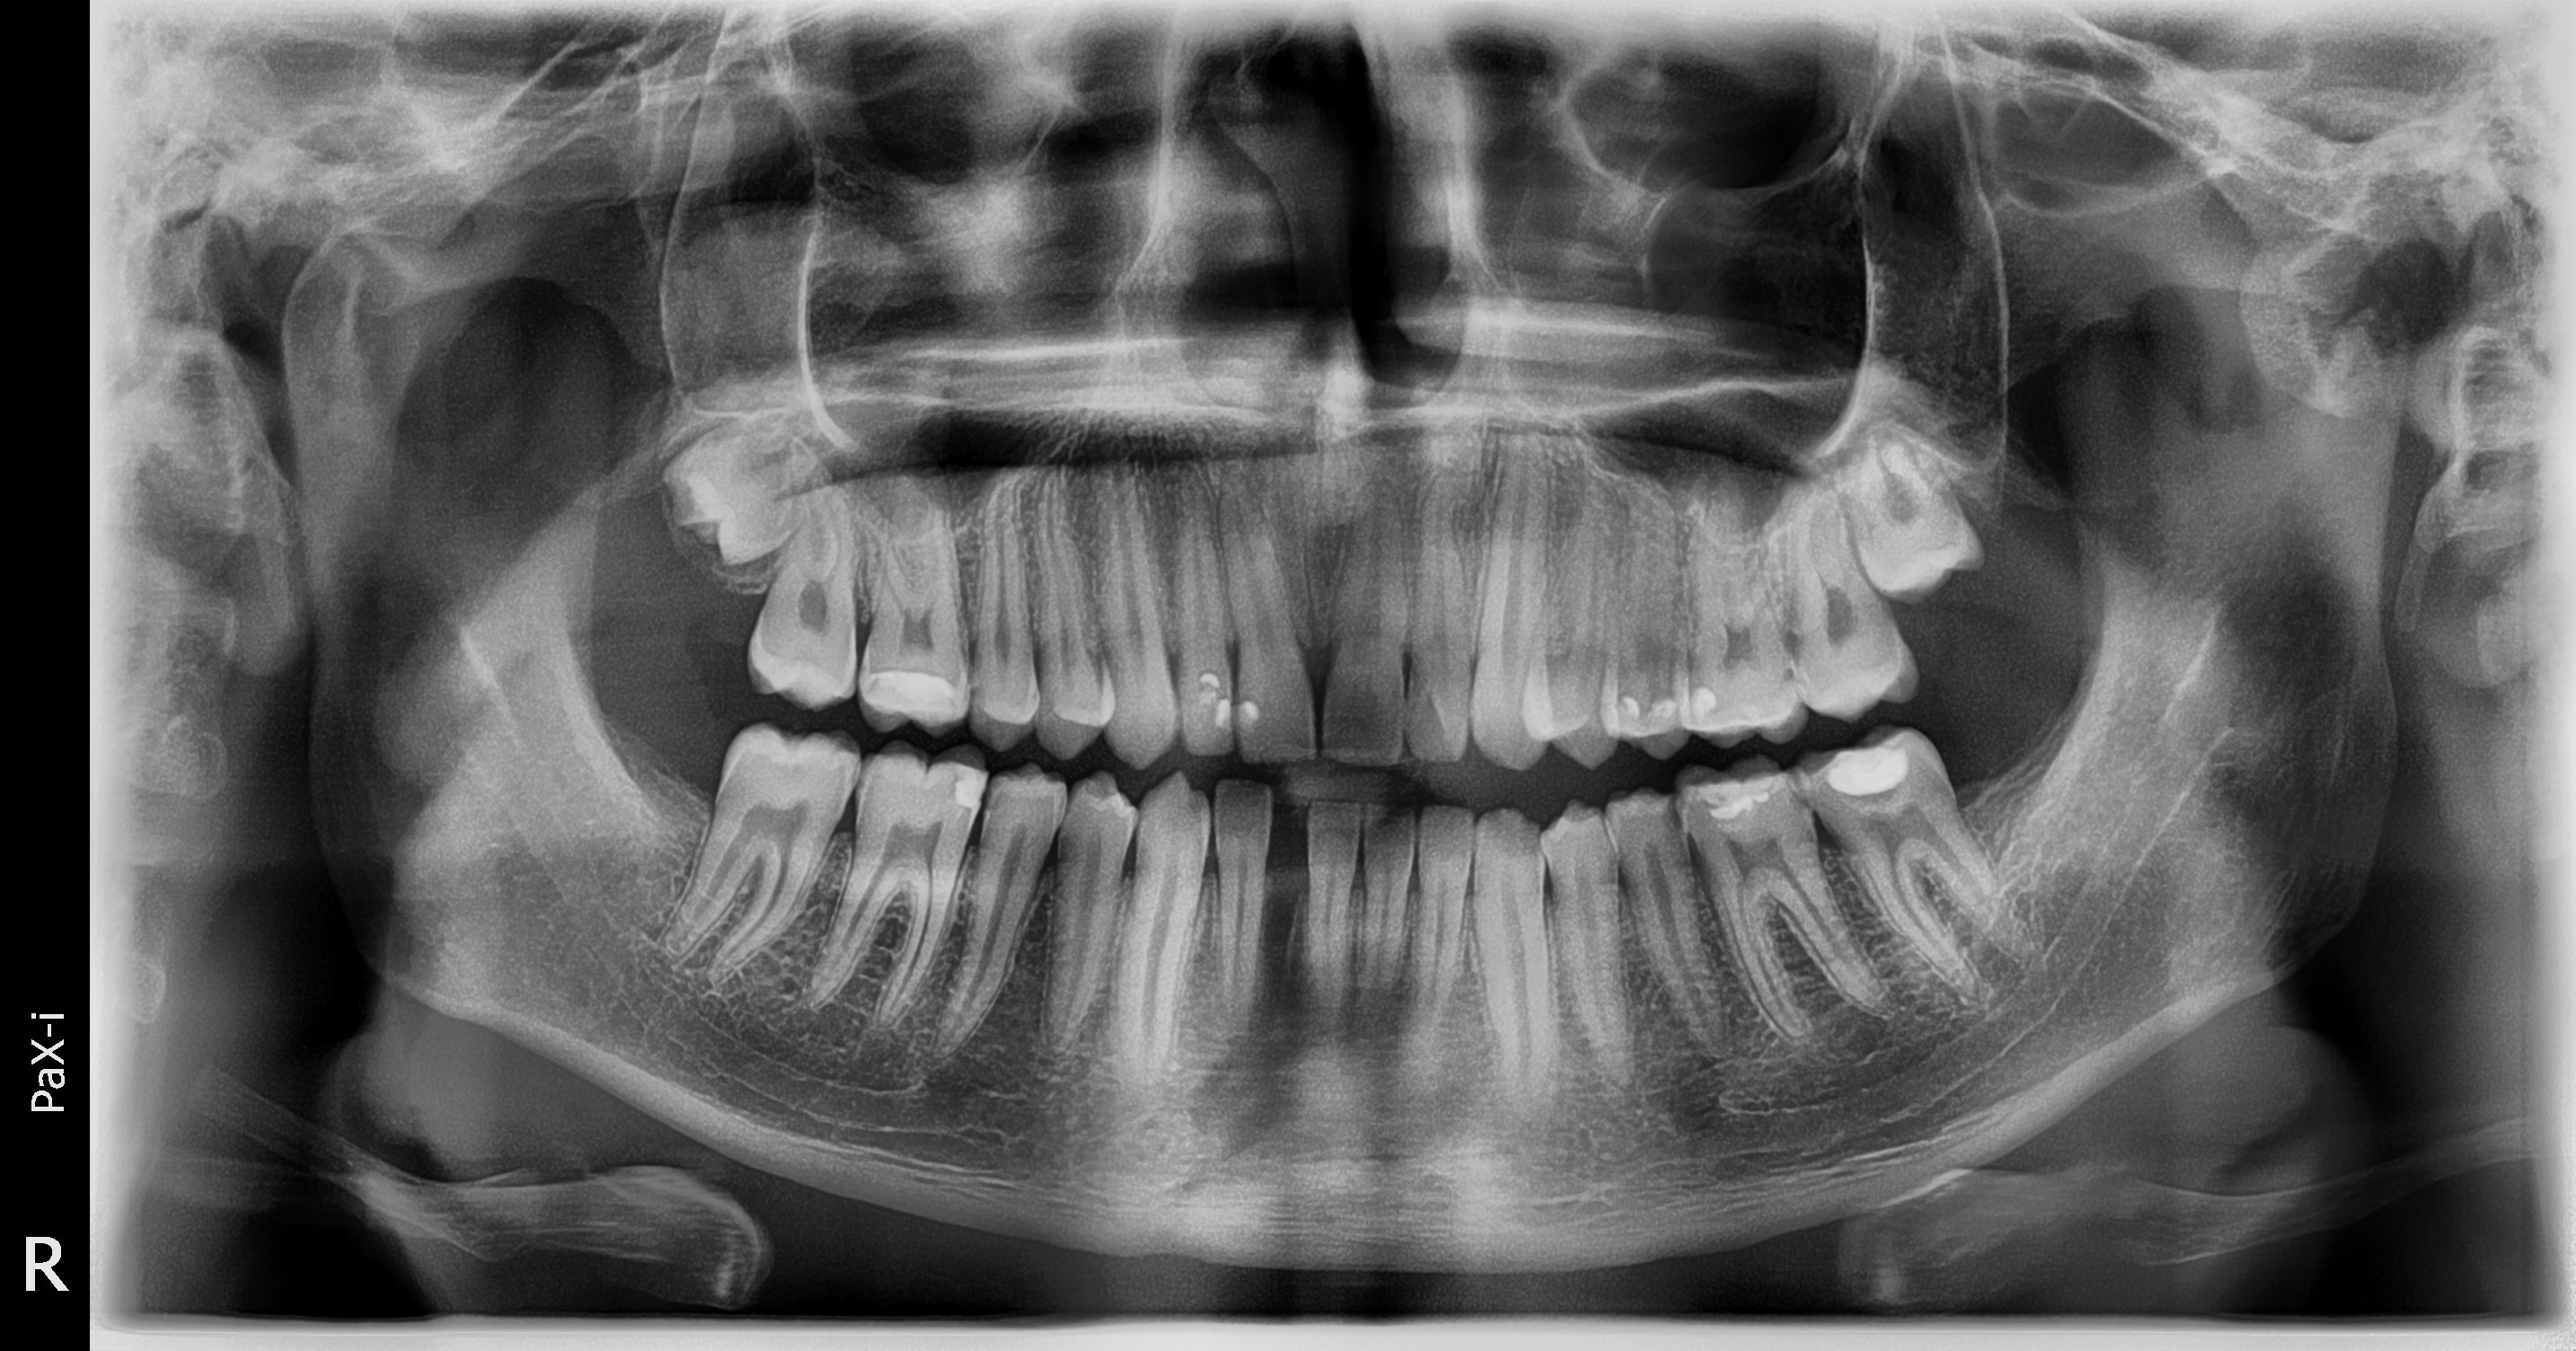CAR: (819, 377, 2504, 1211)
IMT: (250, 136, 1073, 700)
OBT: (387, 307, 1343, 1032)
